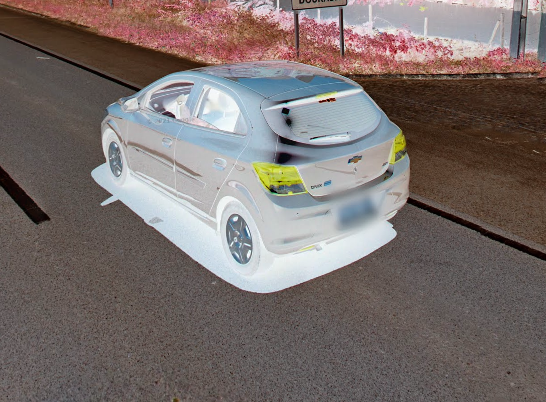car: (100, 57, 412, 279)
